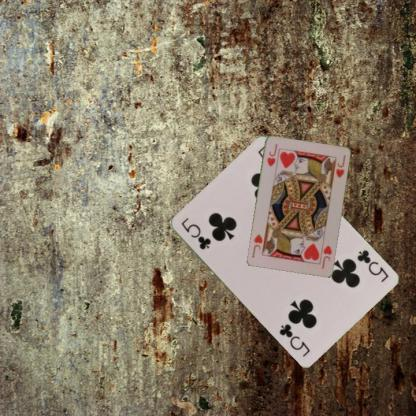5c: (354, 246, 390, 284), (178, 214, 212, 251)
Jh: (264, 141, 279, 168), (319, 242, 333, 270)
